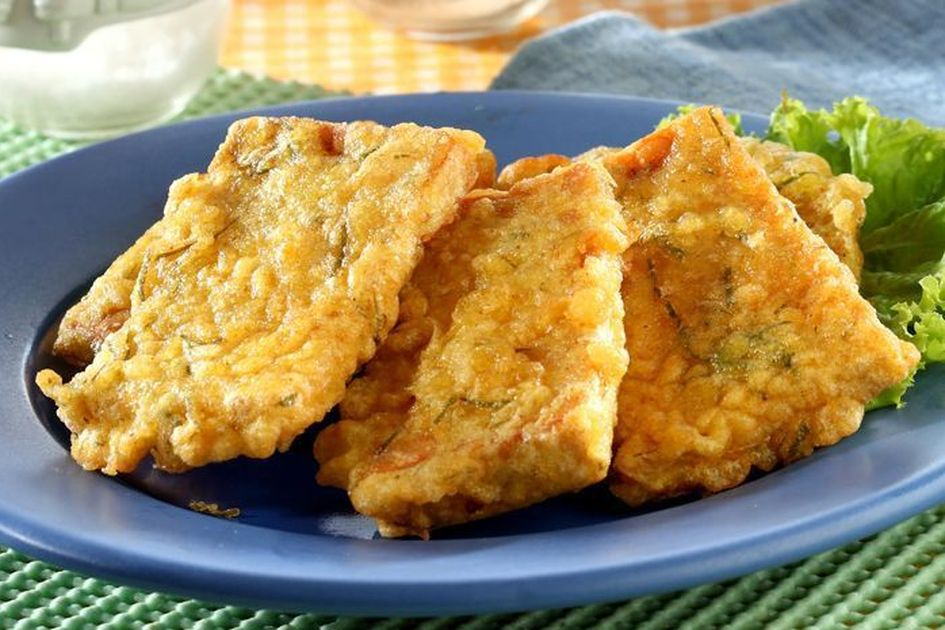Tempe: (100, 107, 474, 481), (314, 149, 645, 480), (581, 171, 893, 483)
